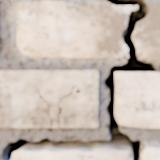brick: (0, 70, 98, 127), (116, 73, 159, 127)
broken_brick: (13, 0, 136, 58), (134, 2, 159, 60), (12, 150, 130, 159), (143, 146, 159, 159)
crack: (0, 0, 157, 159), (57, 83, 82, 127), (46, 103, 53, 127)
